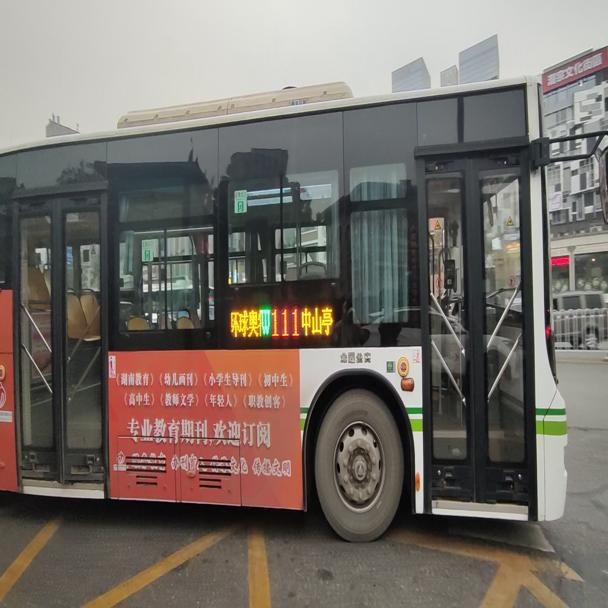screen: (271, 304, 299, 340)
